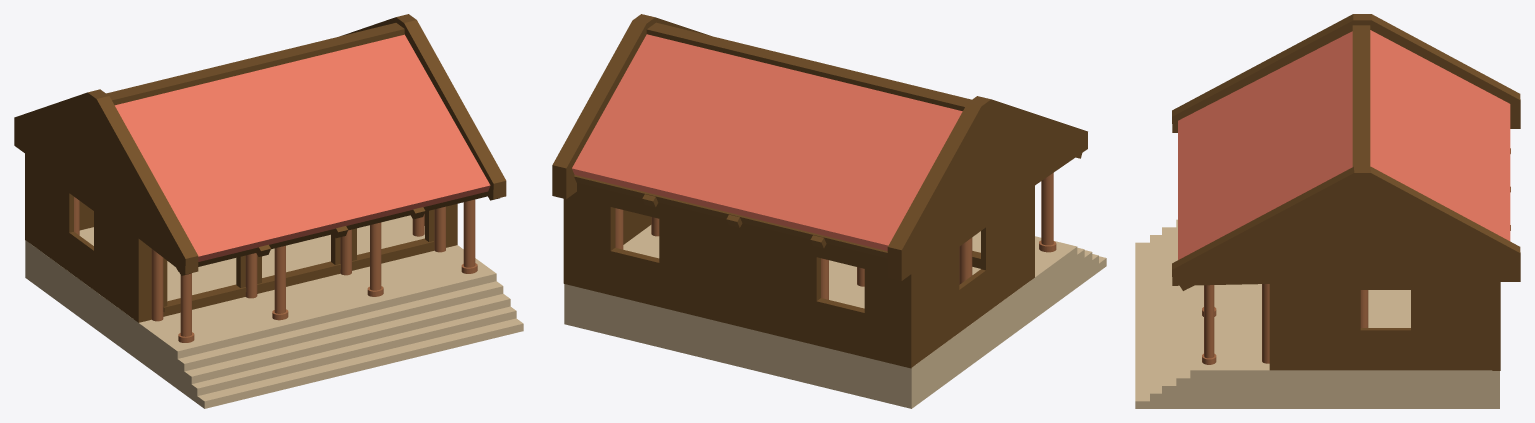
The model's file is house3Labelled.fbx.
The picture shows the model from 3 angles, left to right: view 1: azimuth 30°, elevation 25°; view 2: azimuth 150°, elevation 25°; view 3: azimuth 270°, elevation 25°; orthographic projection. The views are drawn at different scales.
Parts seen in each view (by area): view 1: Cube.032, Steps3, SideHouse, FrontHouse3, Front13, Pillars13, Roof3Support, BackHouse3; view 2: Cube.032, BackHouse3, Steps3, SideHouse, Roof3Support, Front13, Pillars33, Pillars43, SideHouse.001, FrontHouse3; view 3: Cube.032, Steps3, SideHouse.001, Front13, BackHouse3, FrontHouse3, Pillars13.
Boxes of the visible parts, x1,y1,x2,y2 form: Cube.032: (14,14,506,274); Steps3: (25,215,523,408); SideHouse: (29,157,143,322); FrontHouse3: (134,204,457,322); Front13: (178,199,477,342); Pillars13: (151,206,445,321); Roof3Support: (176,191,499,275); BackHouse3: (25,154,93,242); Cube.032: (552,14,1087,280); BackHouse3: (563,183,915,368); Steps3: (564,225,1106,408); SideHouse: (915,189,1030,364); Roof3Support: (574,153,1082,258); Front13: (1039,173,1056,252); Pillars33: (651,217,972,286); Pillars43: (615,208,828,299); SideHouse.001: (623,210,651,244); FrontHouse3: (972,186,1034,280); Cube.032: (1172,14,1520,285); Steps3: (1135,219,1499,408); SideHouse.001: (1278,282,1492,370); Front13: (1202,285,1216,364); BackHouse3: (1492,282,1500,370); FrontHouse3: (1269,283,1277,370); Pillars13: (1262,284,1269,363).
Size of the model in its own units: 906 by 887 by 614.
